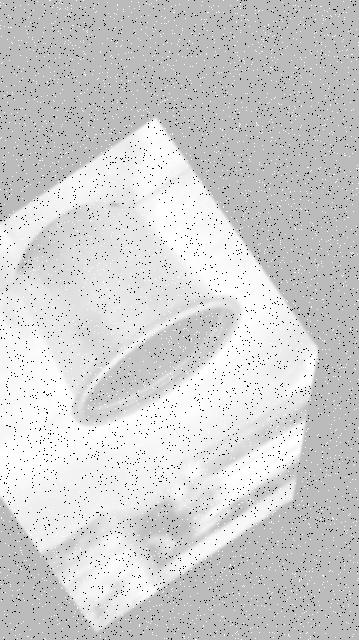pot: (14, 201, 240, 424)
